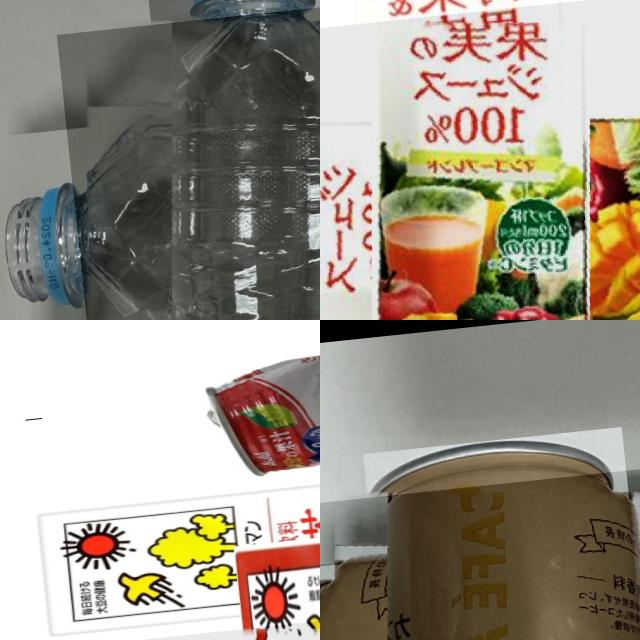Aluminium Foil: (320, 0, 640, 320), (29, 462, 320, 640)
Can: (320, 462, 640, 640), (187, 325, 320, 479)
Transparent Plastic Bottle: (56, 0, 320, 320)
